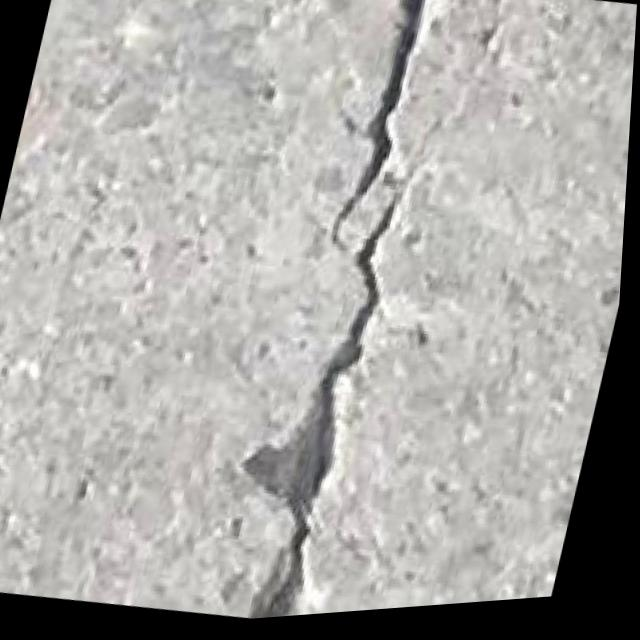Crack: (216, 0, 499, 626)
